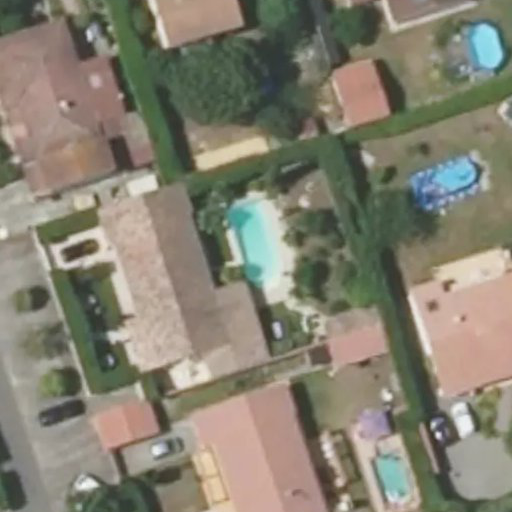pool: (226, 208, 290, 280)
